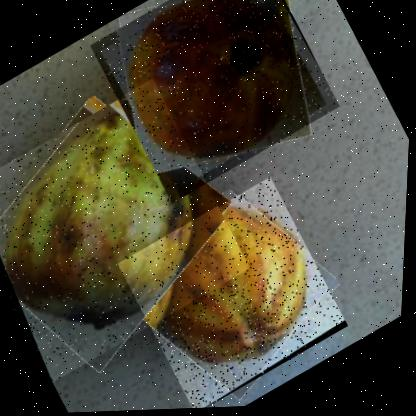guava_rotten: (0, 74, 260, 384), (114, 173, 357, 411), (83, 0, 345, 207)
